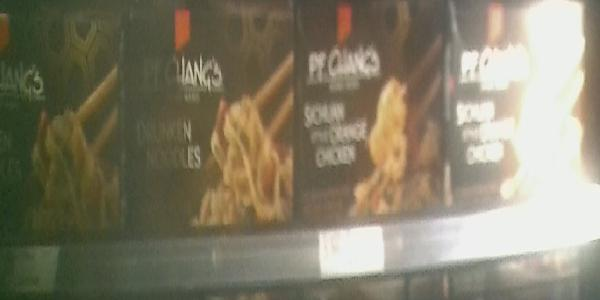pizza1: (126, 4, 294, 221), (295, 1, 449, 209), (1, 10, 126, 235), (455, 1, 586, 209)
